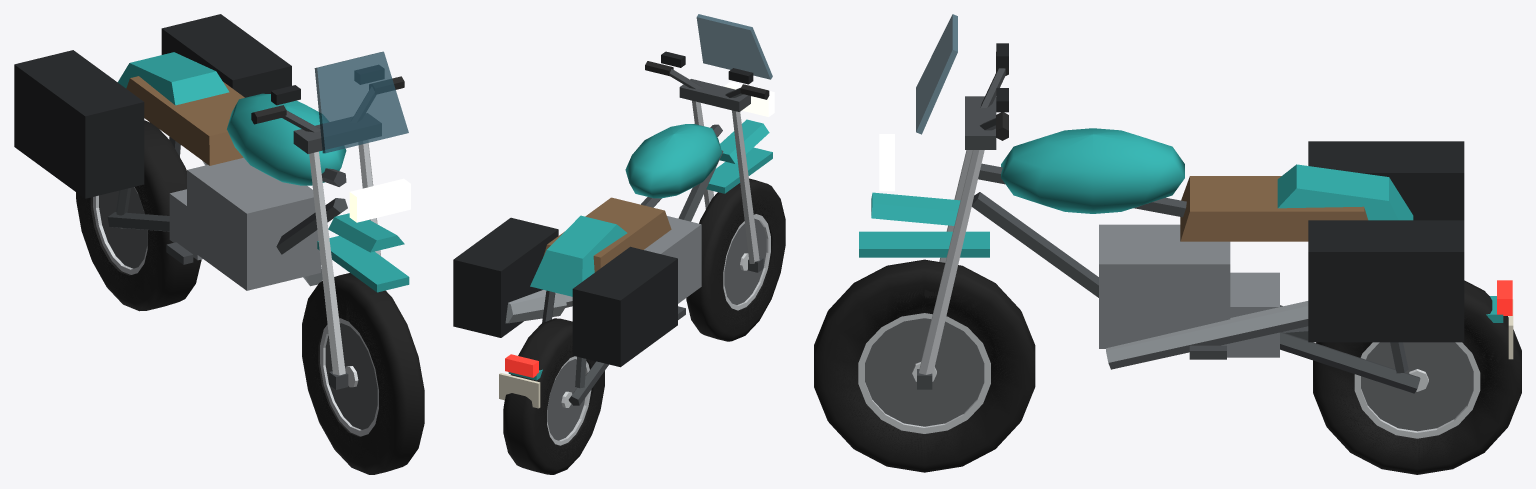
Rendered from hawk-adventure-norider.glb.
The picture shows the model from 3 angles, left to right: view 1: azimuth 30°, elevation 25°; view 2: azimuth 150°, elevation 25°; view 3: azimuth 270°, elevation 25°; orthographic projection. The views are drawn at different scales.
Parts seen in each view (by area): view 1: frame, wheel_F, fork, wheel_R, headlight; view 2: frame, wheel_F, fork, wheel_R, plate_R, taillight, headlight; view 3: frame, wheel_F, wheel_R, fork, headlight.
Part boxes in pixels (box(x1,y1,x2,y2)): frame: box(14, 14, 347, 290); wheel_F: box(302, 273, 424, 474); fork: box(251, 51, 409, 389); wheel_R: box(76, 120, 201, 311); headlight: box(349, 178, 410, 222); frame: box(453, 124, 723, 405); wheel_F: box(686, 178, 785, 341); fork: box(645, 14, 772, 272); wheel_R: box(503, 318, 604, 474); plate_R: box(499, 373, 540, 408); taillight: box(505, 354, 538, 377); headlight: box(725, 81, 774, 116); frame: box(971, 128, 1503, 393); wheel_F: box(814, 259, 1035, 472); wheel_R: box(1313, 280, 1521, 474); fork: box(859, 14, 1008, 389); headlight: box(879, 134, 894, 191).
Size of the model in its own units: 0.8398 by 1.54 by 2.27.
